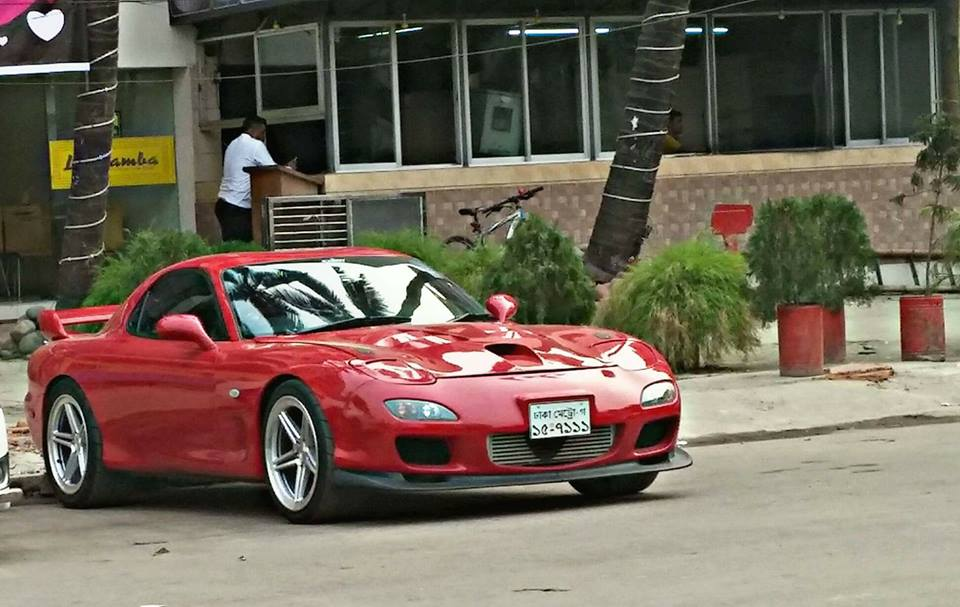registration_plate: (529, 399, 591, 440)
